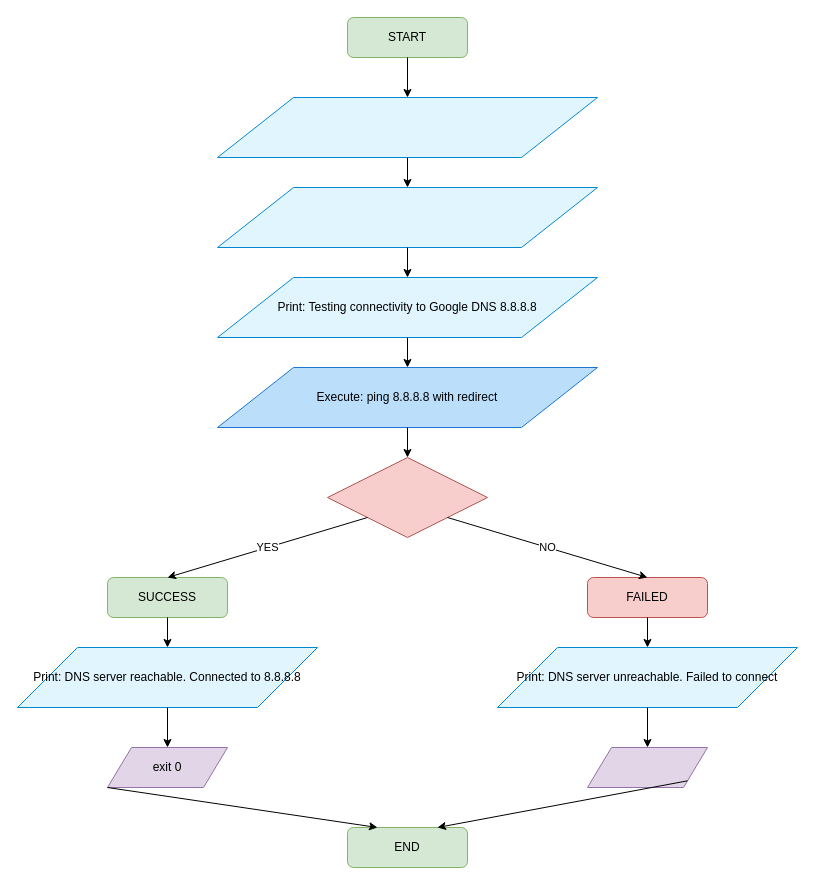
Image size: 815x885. Some labels were removed from this diagram. Each missing label, with the centre of its shape:
"Check Exit Code: Success" belongs at point 407,497.
"exit 1" belongs at point 647,767.
"Print Header: DNS Server Connectivity Test" belongs at point 407,127.
"Print Timestamp: date command" belongs at point 407,217.
